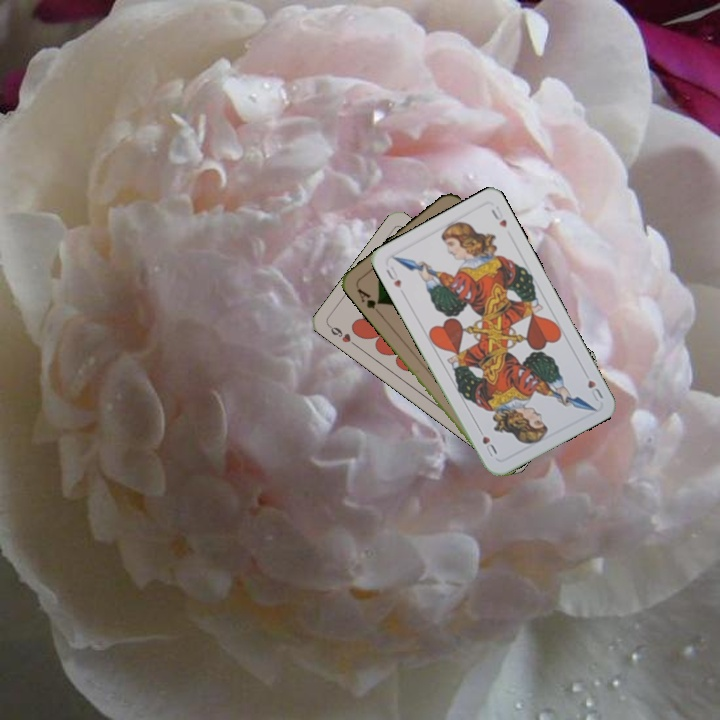GA: (353, 284, 384, 317)
H9: (325, 321, 360, 350)
HU: (382, 260, 404, 290), (584, 376, 606, 404)
